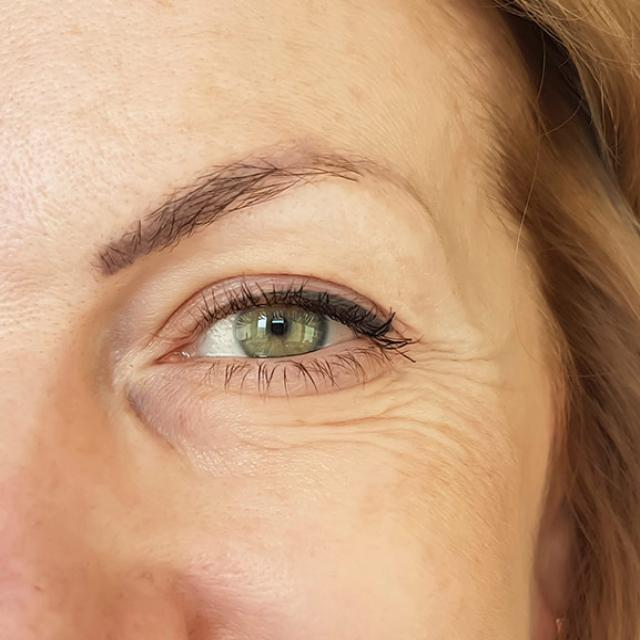Wrinkles: (219, 334, 527, 526)
